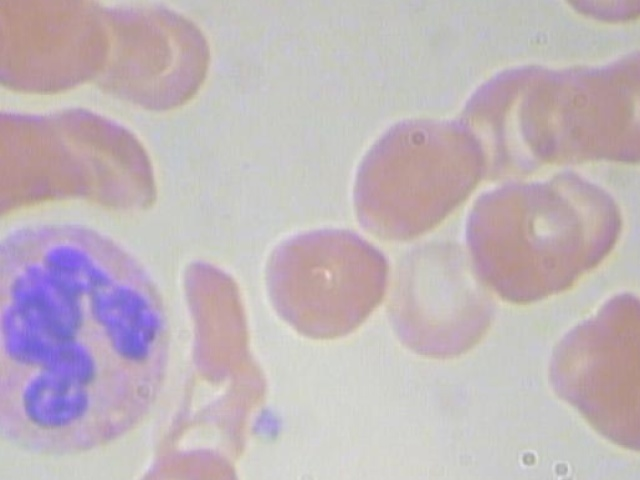Platelets: (245, 404, 298, 453)
RBC: (343, 107, 489, 248), (345, 105, 491, 246), (453, 171, 591, 302), (251, 222, 393, 339), (385, 237, 499, 362), (35, 100, 162, 209), (104, 0, 220, 109), (515, 56, 622, 171), (532, 164, 638, 278), (538, 306, 640, 421), (172, 252, 257, 386), (0, 96, 64, 223), (0, 0, 95, 78), (123, 440, 250, 480), (548, 0, 640, 29)
WBC: (0, 210, 183, 466)
